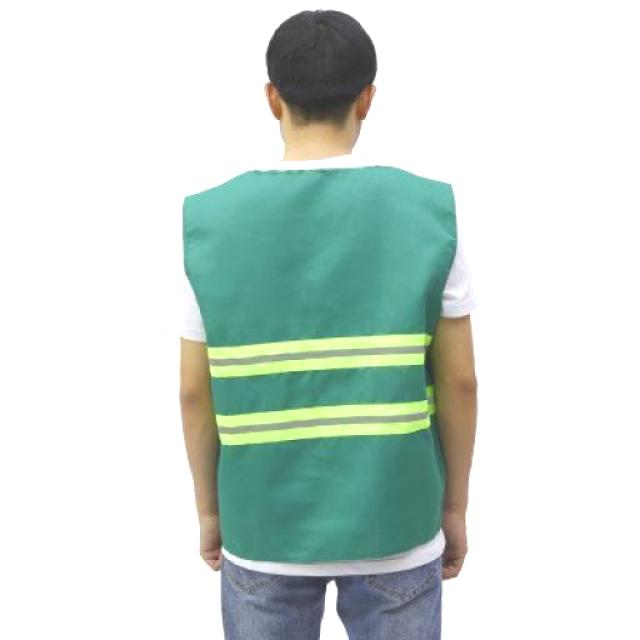head_nohelmet: (260, 6, 380, 160)
person: (151, 6, 501, 640)
vest: (166, 168, 468, 567)
